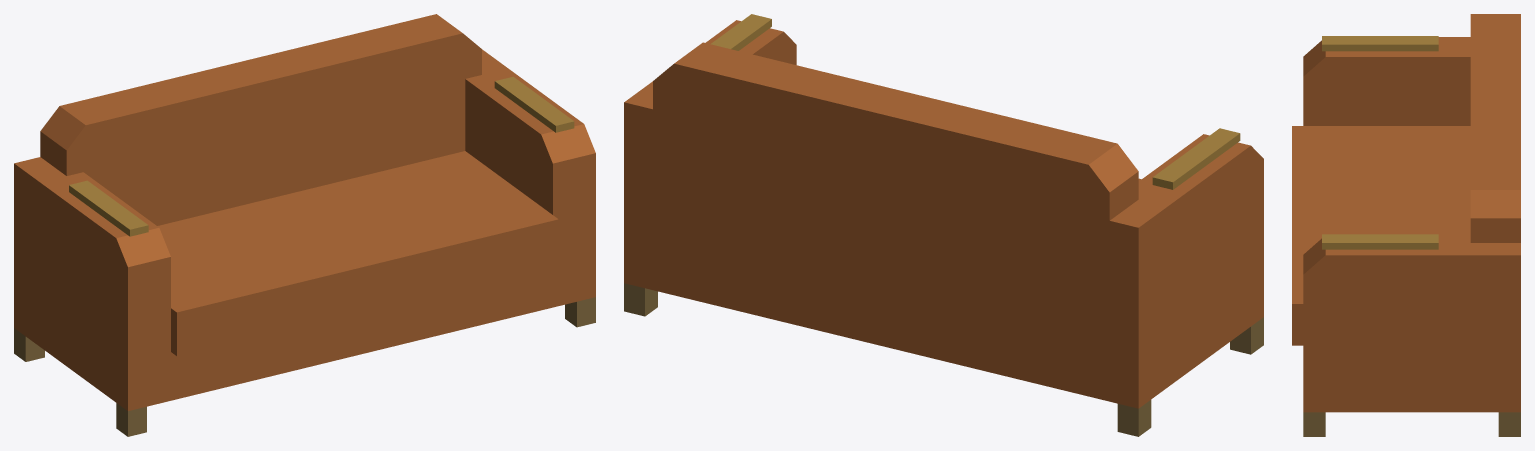
File: settee.glb
3 views of the same model, side by side, from view 1: azimuth 30°, elevation 25°; view 2: azimuth 150°, elevation 25°; view 3: azimuth 270°, elevation 25° (orthographic). The views are drawn at different scales.
Parts seen in each view (by area): view 1: settee; view 2: settee; view 3: settee.
Part boxes in pixels (x1,y1,x2,y2): settee: [14, 14, 595, 436]; settee: [624, 14, 1263, 436]; settee: [1292, 14, 1520, 436].
Bounding box in the file's own units: 1.76 × 0.85 × 0.78.
